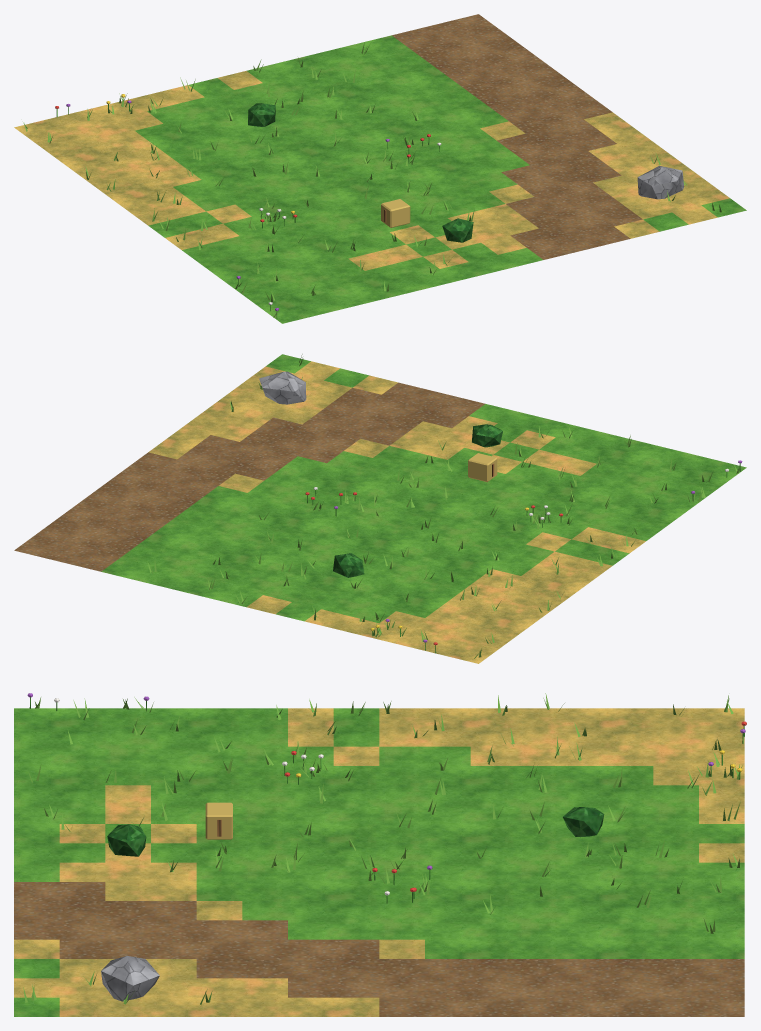
The model's file is chunk_10_12.glb.
3 renders of one model, top to bottom at view 1: azimuth 30°, elevation 25°; view 2: azimuth 150°, elevation 25°; view 3: azimuth 270°, elevation 25°, orthographic. The views are drawn at different scales.
Parts seen in each view (by area): view 1: chunk_10_12; view 2: chunk_10_12; view 3: chunk_10_12.
Boxes of the visible parts, x1,y1,x2,y2 form: chunk_10_12: (14, 14, 746, 323); chunk_10_12: (14, 354, 746, 663); chunk_10_12: (14, 693, 746, 1016).
Bounding box in the file's own units: 16.07 × 1.31 × 16.05.
13 materials, 7 textured.
